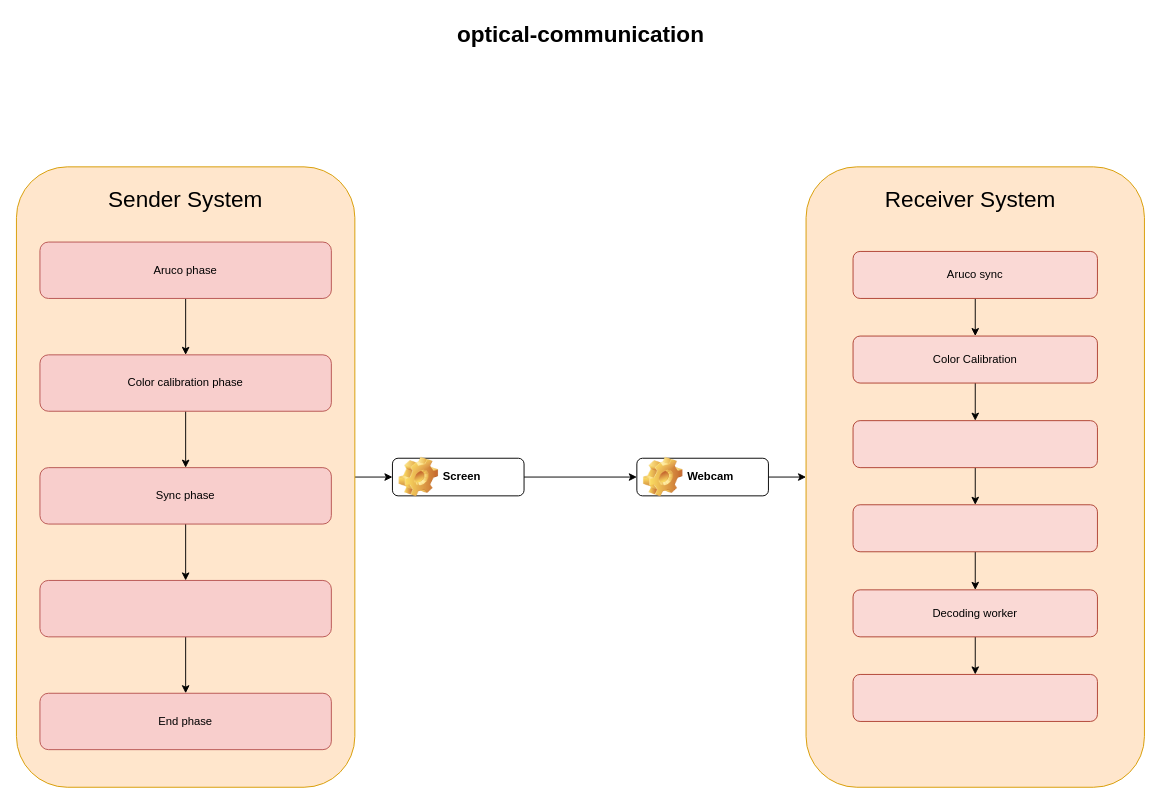
Image size: 1161x804. Some labels were removed from this diagram. Here are the shapes that lost their labels. From the top down, the centre of each, then its label:
point 974,444: Syncing
point 974,528: Decoding bits
point 185,608: Bit phase
point 974,697: Message worker
